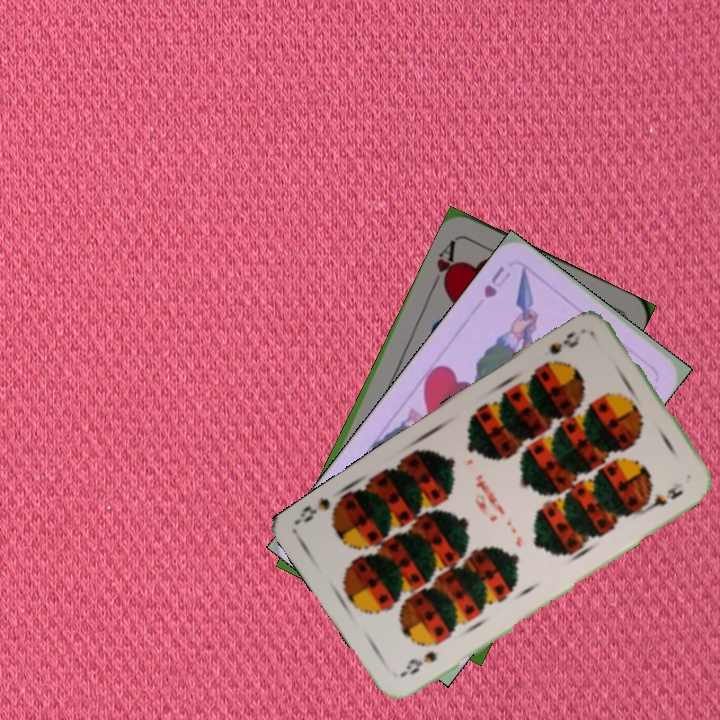HA: (428, 235, 461, 294)
HU: (479, 262, 507, 301)
S9: (538, 327, 583, 370), (398, 647, 440, 678)
